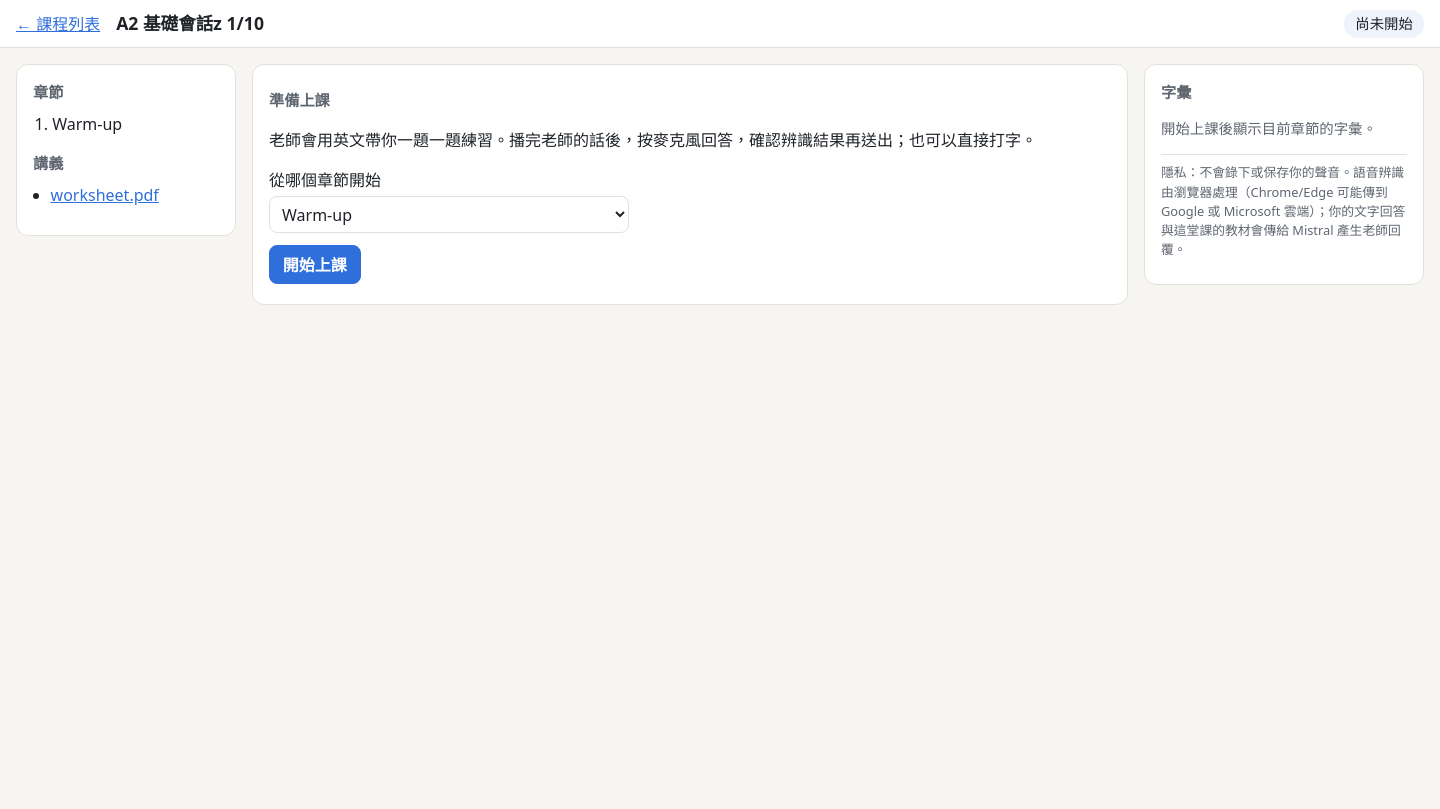
Scenario: classroom › offers a retry instead of looping when the summary fails
The image size is (1440, 809).
Click the button "開始上課" at (315, 265), box [269,245,361,284]
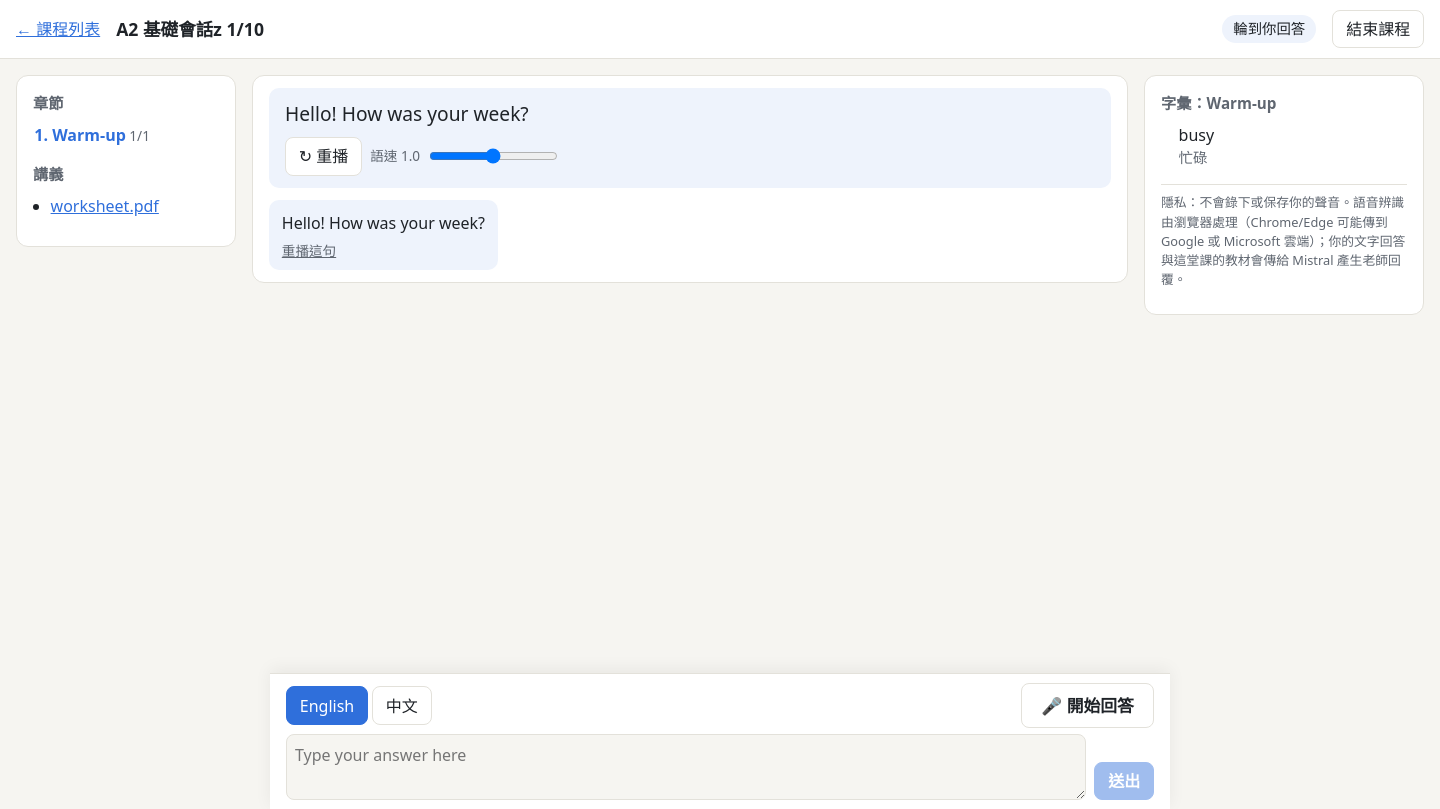
Result: the 1st text "Hello! How was your week?" is shown at [285,100,529,127]
Type "Bye" into the text box at (686, 767), box [286,734,1086,800]
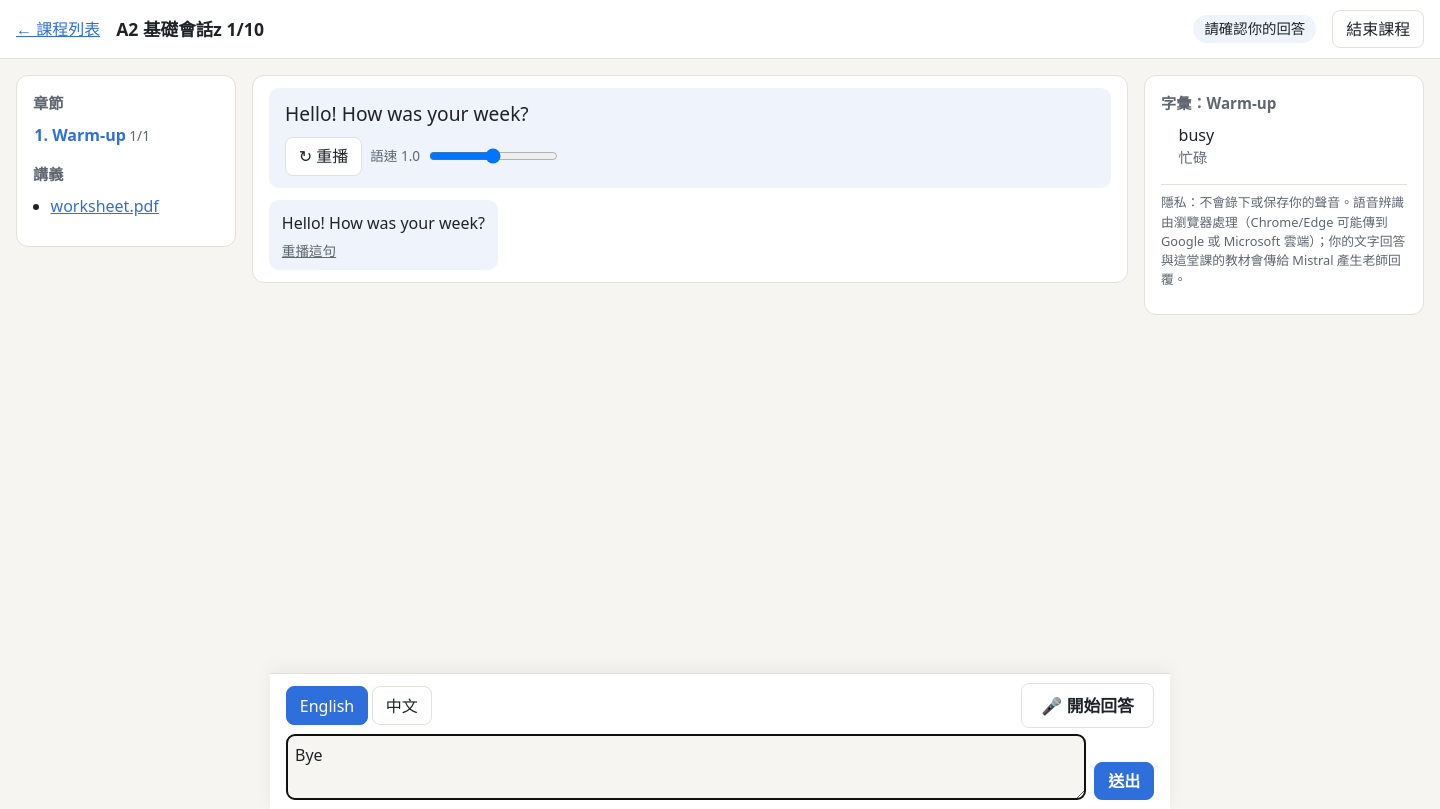
Click the button "送出" at (1124, 781), box [1094,762,1154,800]
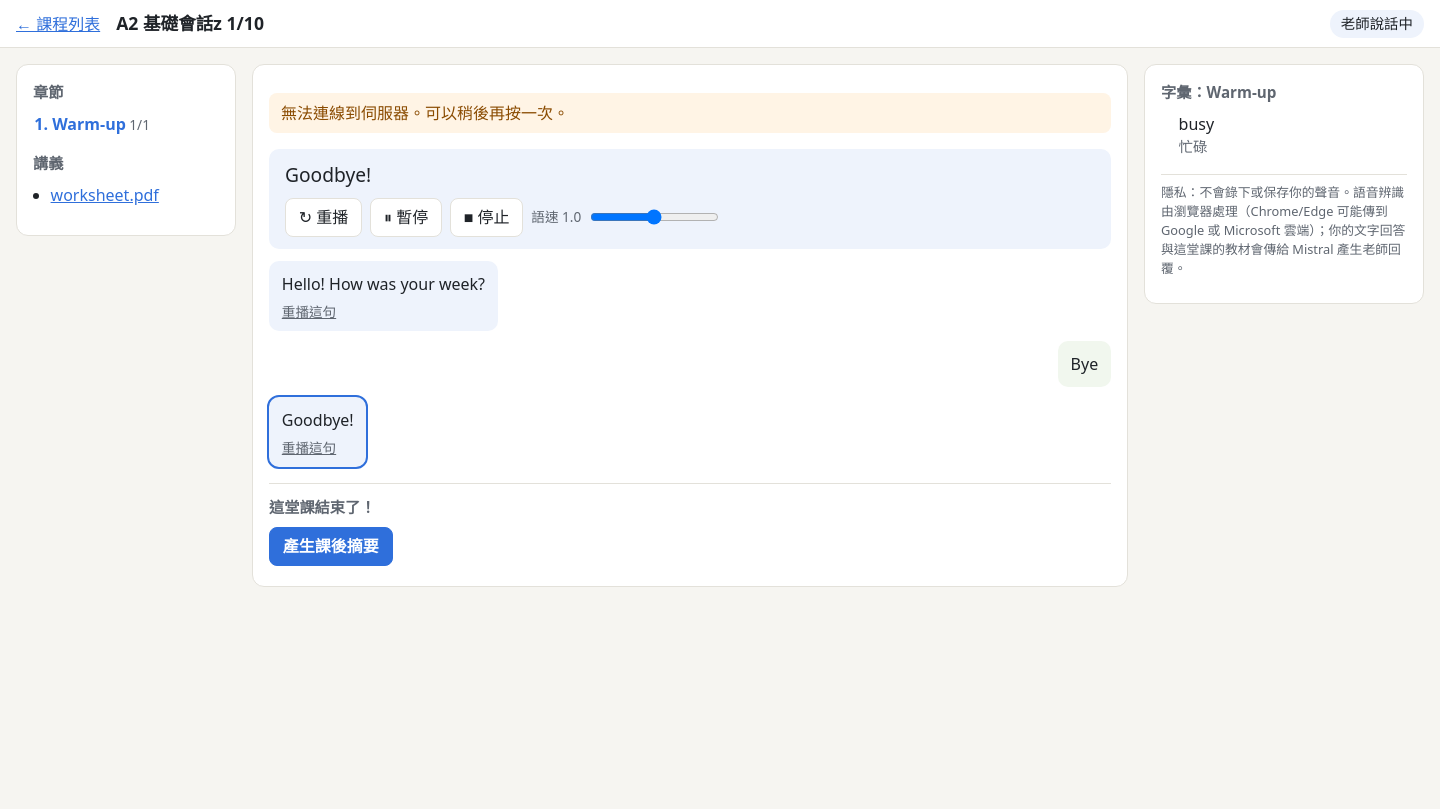
Click the button "產生課後摘要" at (331, 546), box [269,527,393,566]
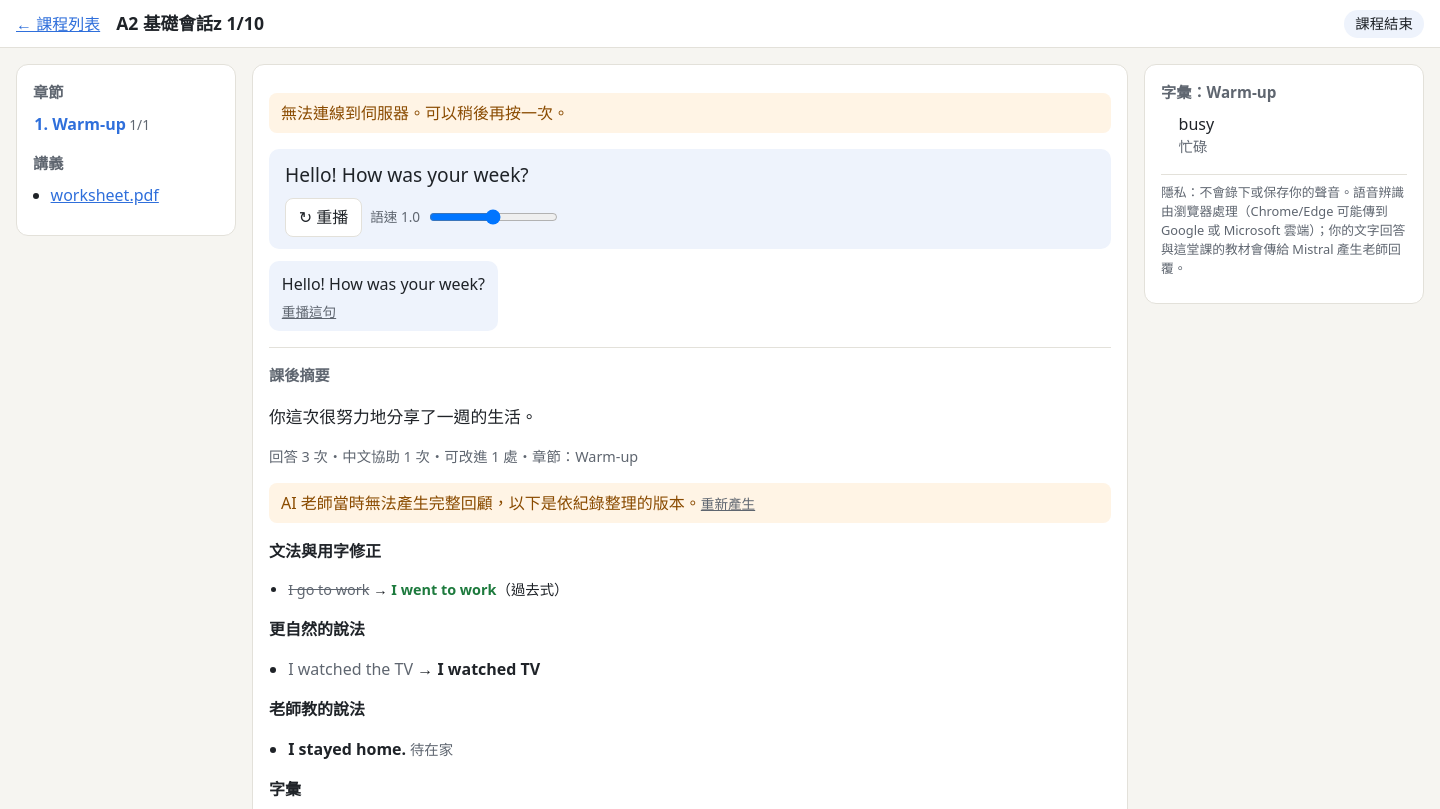
Result: the text "AI 老師當時無法產生完整回顧，以下是依紀錄整理的版本。 重新產生" is shown at [269,483,1111,523]
Click the button "重新產生" at (728, 504), box [701,494,755,515]
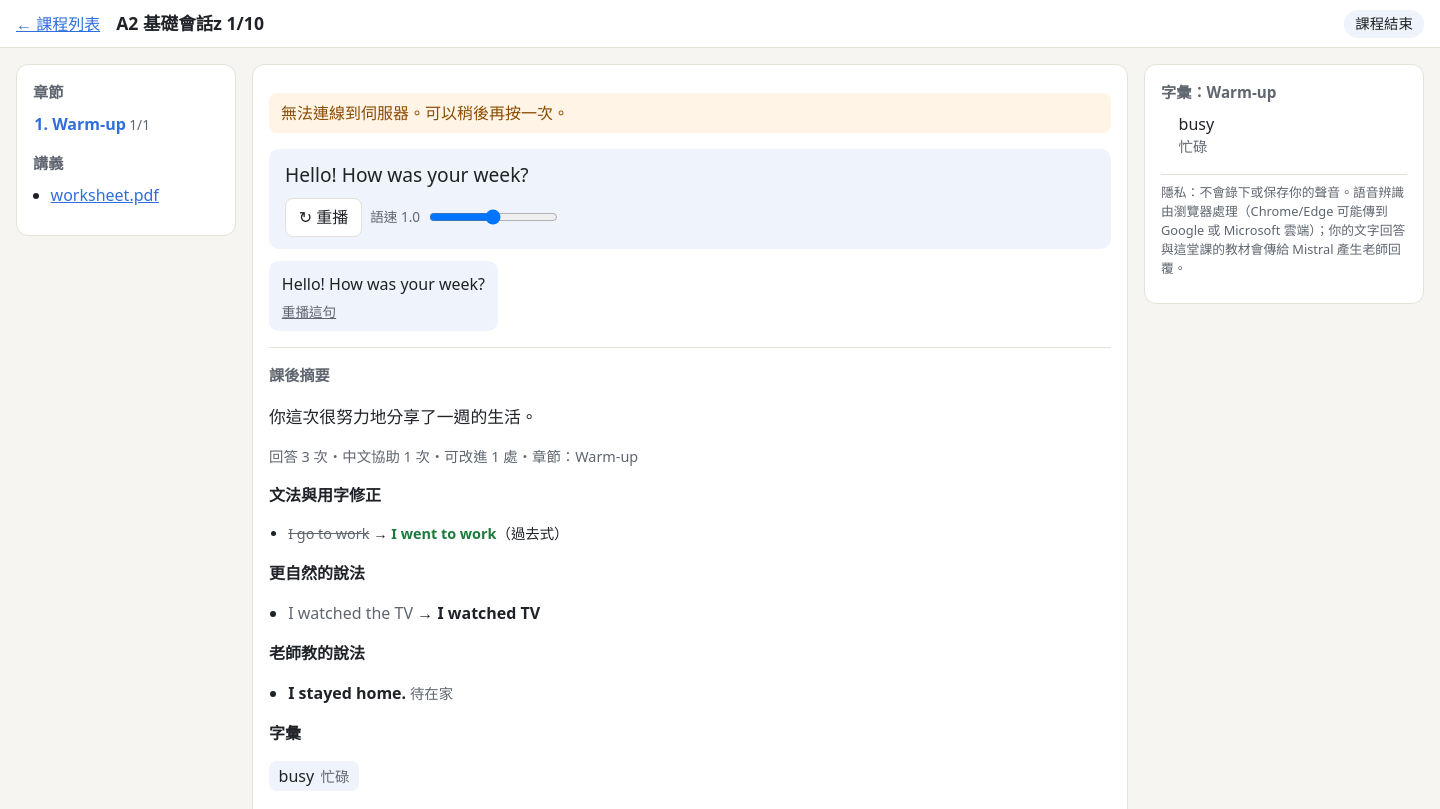
Result: the text "AI 老師當時無法產生完整回顧" is gone
